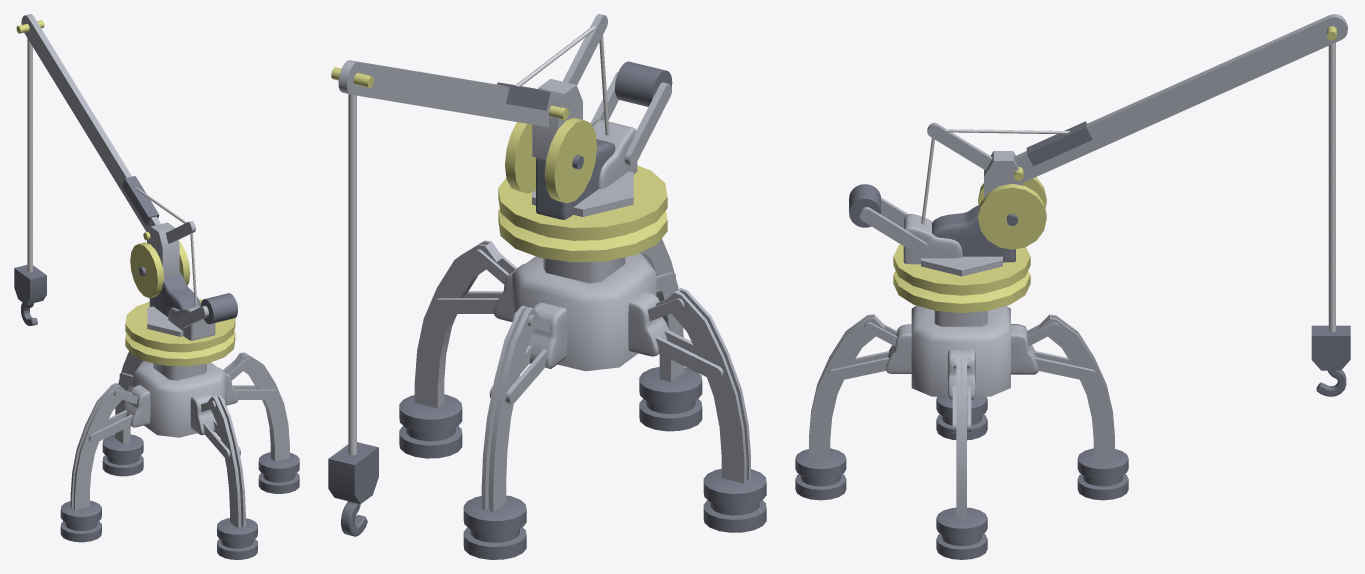
File: crane.fbx
3 views of the same model, side by side, from view 1: azimuth 30°, elevation 25°; view 2: azimuth 150°, elevation 25°; view 3: azimuth 270°, elevation 25° (orthographic). The views are drawn at different scales.
Parts seen in each view (by area): view 1: polySurface1, pasted__polySurface1, pasted__pasted__polySurface1 (×2); view 2: polySurface1, pasted__polySurface1, pasted__pasted__polySurface1 (×2); view 3: pasted__polySurface1, polySurface1, pasted__pasted__polySurface1 (×2).
Boxes of the visible parts, x1,y1,x2,y2 form: polySurface1: (60, 351, 299, 559); pasted__polySurface1: (16, 14, 237, 366); pasted__pasted__polySurface1 (×2): (14, 38, 46, 326); polySurface1: (399, 238, 766, 559); pasted__polySurface1: (331, 14, 672, 262); pasted__pasted__polySurface1 (×2): (328, 94, 378, 536); pasted__polySurface1: (849, 14, 1347, 312); polySurface1: (795, 305, 1128, 559); pasted__pasted__polySurface1 (×2): (1311, 42, 1350, 396).
Size of the model in its own units: 46.82 by 73.68 by 77.98.
